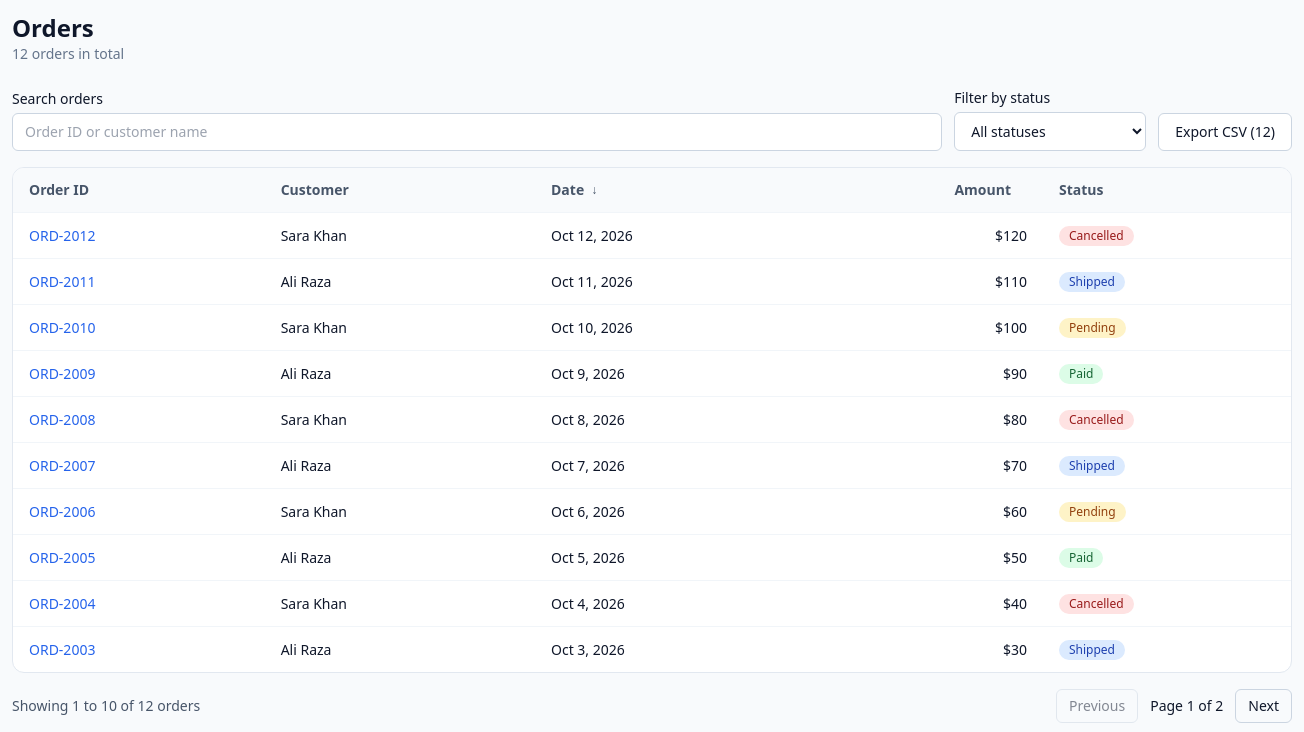
Test: OrdersPage › sorts by a column and reports it with aria-sort
The width and height of the screenshot is (1304, 732).
Click the button "Order ID" at [67, 190], box [29, 180, 105, 200]
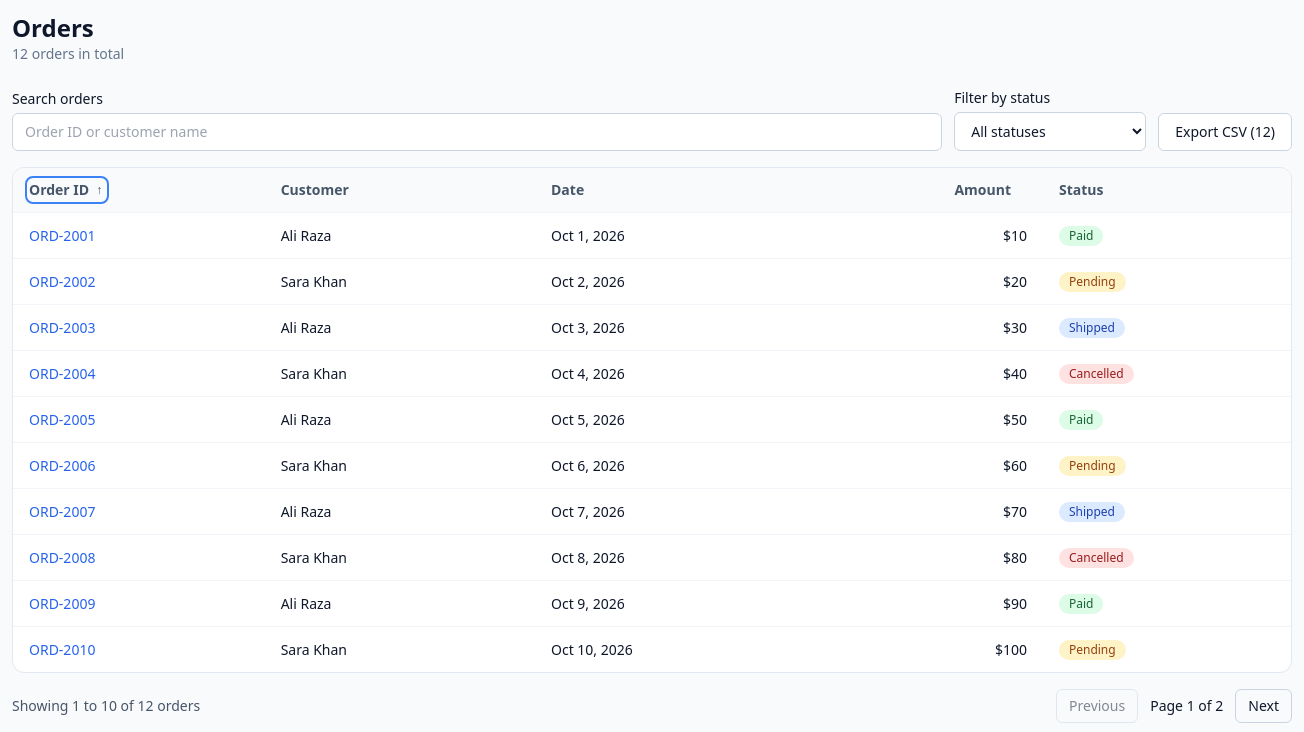
Expected: the button "ORD-2001" is shown, [29, 226, 95, 246]
